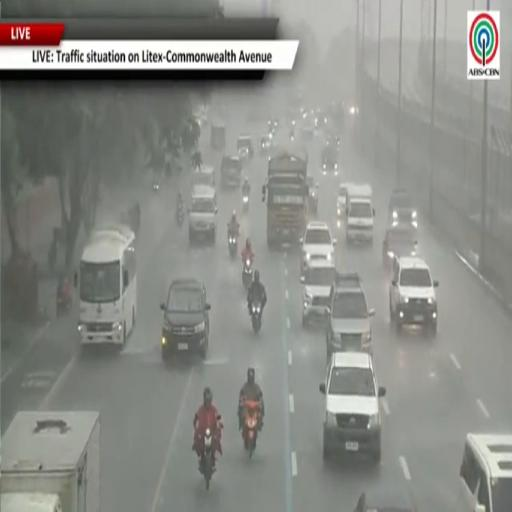bus: (74, 226, 136, 347)
car: (320, 352, 386, 463), (454, 432, 511, 511), (326, 274, 374, 360), (161, 279, 210, 360), (390, 256, 438, 334), (301, 261, 336, 327), (300, 221, 336, 274), (189, 186, 217, 245), (382, 224, 417, 268), (388, 188, 417, 228), (354, 493, 418, 511), (337, 183, 353, 228), (221, 155, 242, 187), (322, 146, 338, 175), (307, 176, 318, 214), (237, 135, 253, 161), (314, 108, 327, 129), (260, 134, 273, 154), (326, 134, 340, 148), (268, 119, 278, 135)
motorcycle: (242, 400, 260, 458), (200, 427, 215, 490), (200, 428, 215, 489), (56, 292, 72, 316), (242, 259, 253, 290), (252, 301, 261, 333), (228, 235, 237, 258), (176, 207, 184, 227), (243, 195, 249, 212), (153, 182, 160, 193)
truck: (0, 411, 100, 511), (262, 151, 308, 247), (346, 184, 375, 244)
